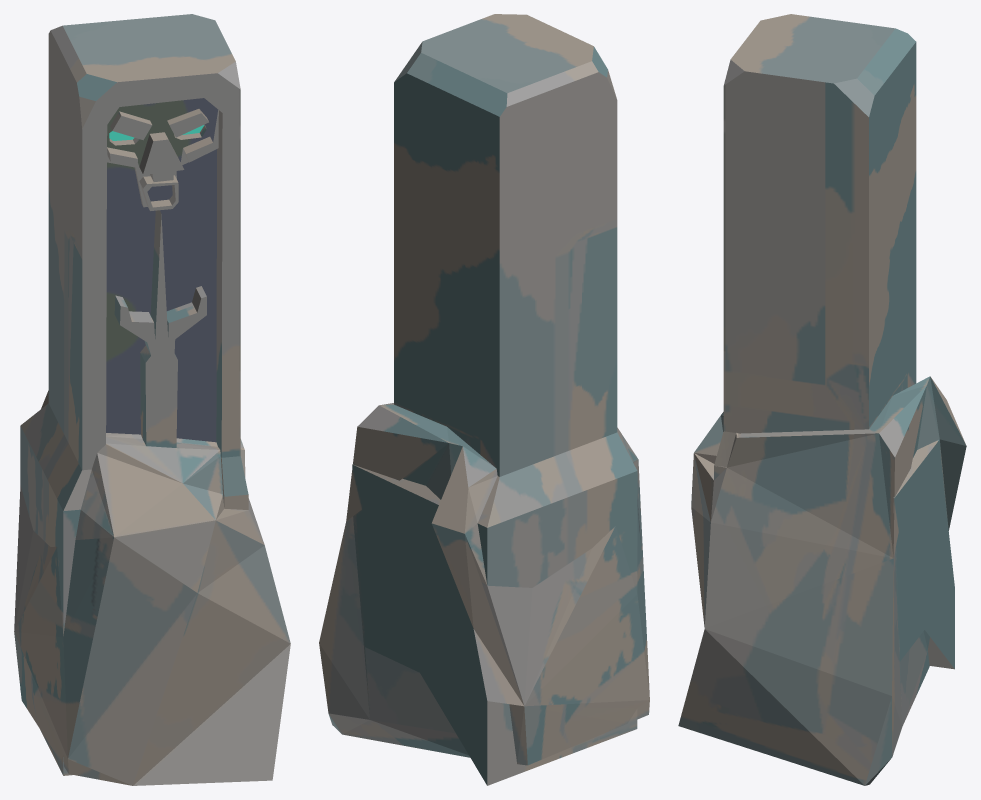
The model's file is s_stone ghost01_03.fbx.
3 views of the same model, side by side, from view 1: azimuth 30°, elevation 25°; view 2: azimuth 150°, elevation 25°; view 3: azimuth 270°, elevation 25° (orthographic). The views are drawn at different scales.
Visible parts, largest first — view 1: s_stone ghost01_03; view 2: s_stone ghost01_03; view 3: s_stone ghost01_03.
Part boxes in pixels (x1,y1,x2,y2): s_stone ghost01_03: [14, 14, 290, 785]; s_stone ghost01_03: [319, 14, 649, 785]; s_stone ghost01_03: [678, 14, 966, 785].
Size of the model in its own units: 193 by 494 by 192.
Materials: 1 (1 with a texture image).
